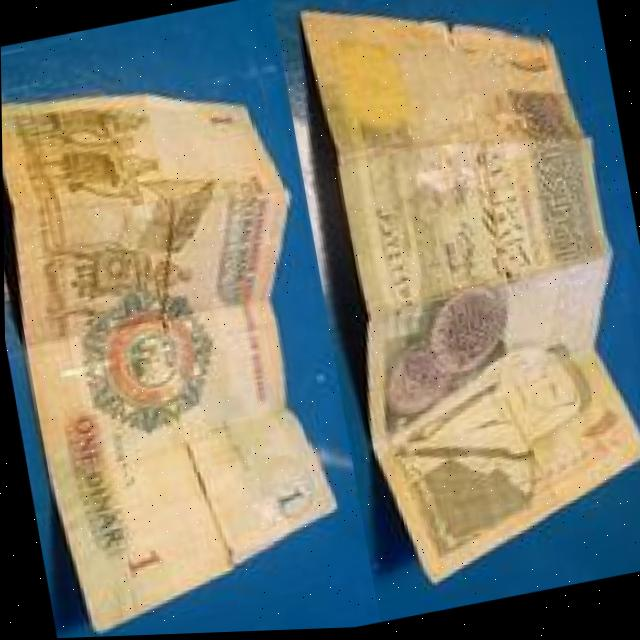banknote: (1, 46, 359, 640), (295, 0, 640, 598)
